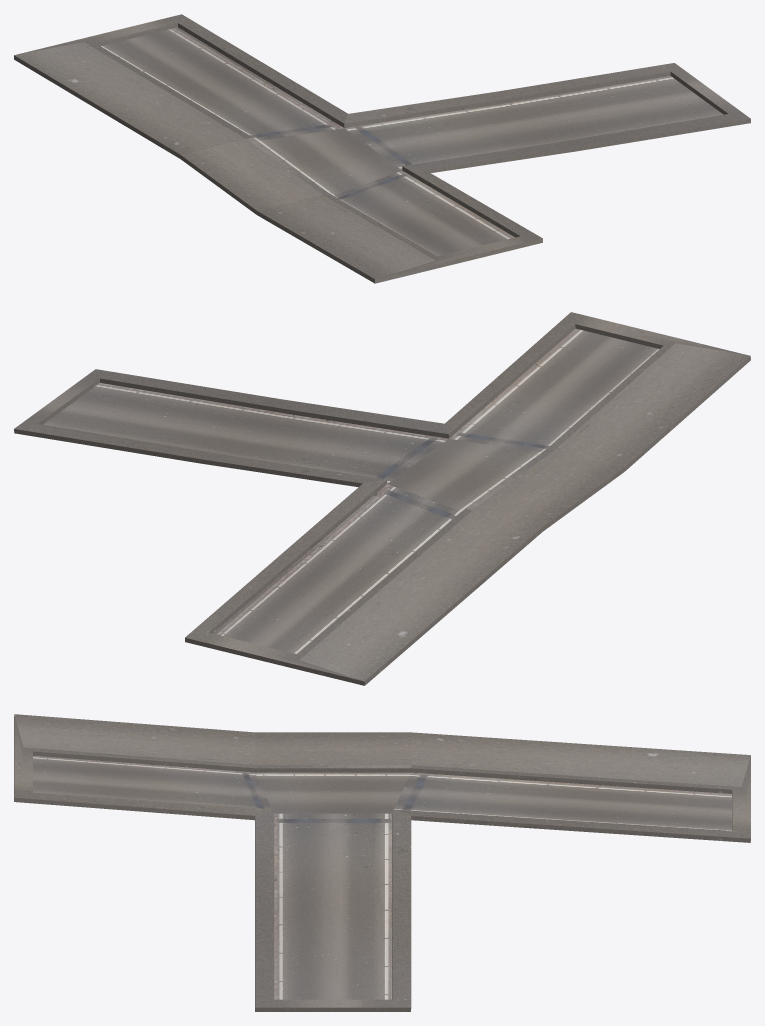
File: PS1RoadNew.fbx
The picture shows the model from 3 angles, top to bottom: view 1: azimuth 30°, elevation 25°; view 2: azimuth 150°, elevation 25°; view 3: azimuth 270°, elevation 25°; orthographic projection. The views are drawn at different scales.
Parts seen in each view (by area): view 1: Road; view 2: Road; view 3: Road.
Boxes of the visible parts, x1=… form: Road: x1=14, y1=14, x2=750, y2=283; Road: x1=14, y1=312, x2=750, y2=685; Road: x1=14, y1=714, x2=750, y2=1011.
Size of the model in its own units: 907 by 88.98 by 1149.
